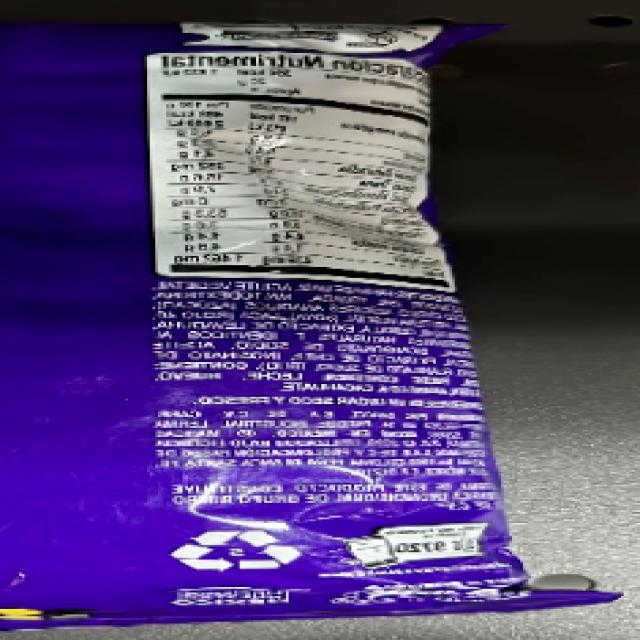productoAtras: (7, 26, 487, 612)
